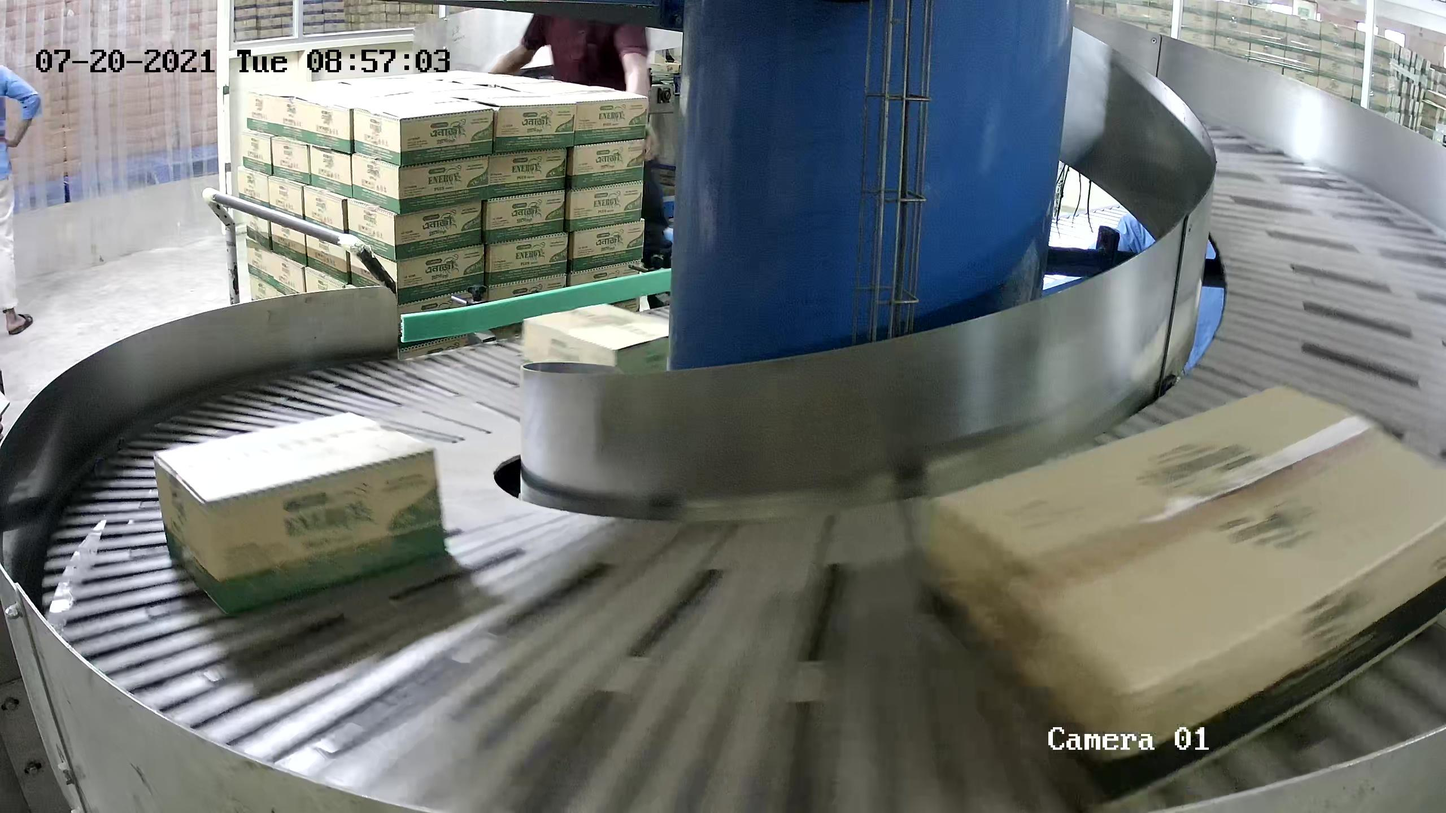Box: (918, 377, 1446, 813), (150, 409, 448, 618), (521, 301, 668, 384)
